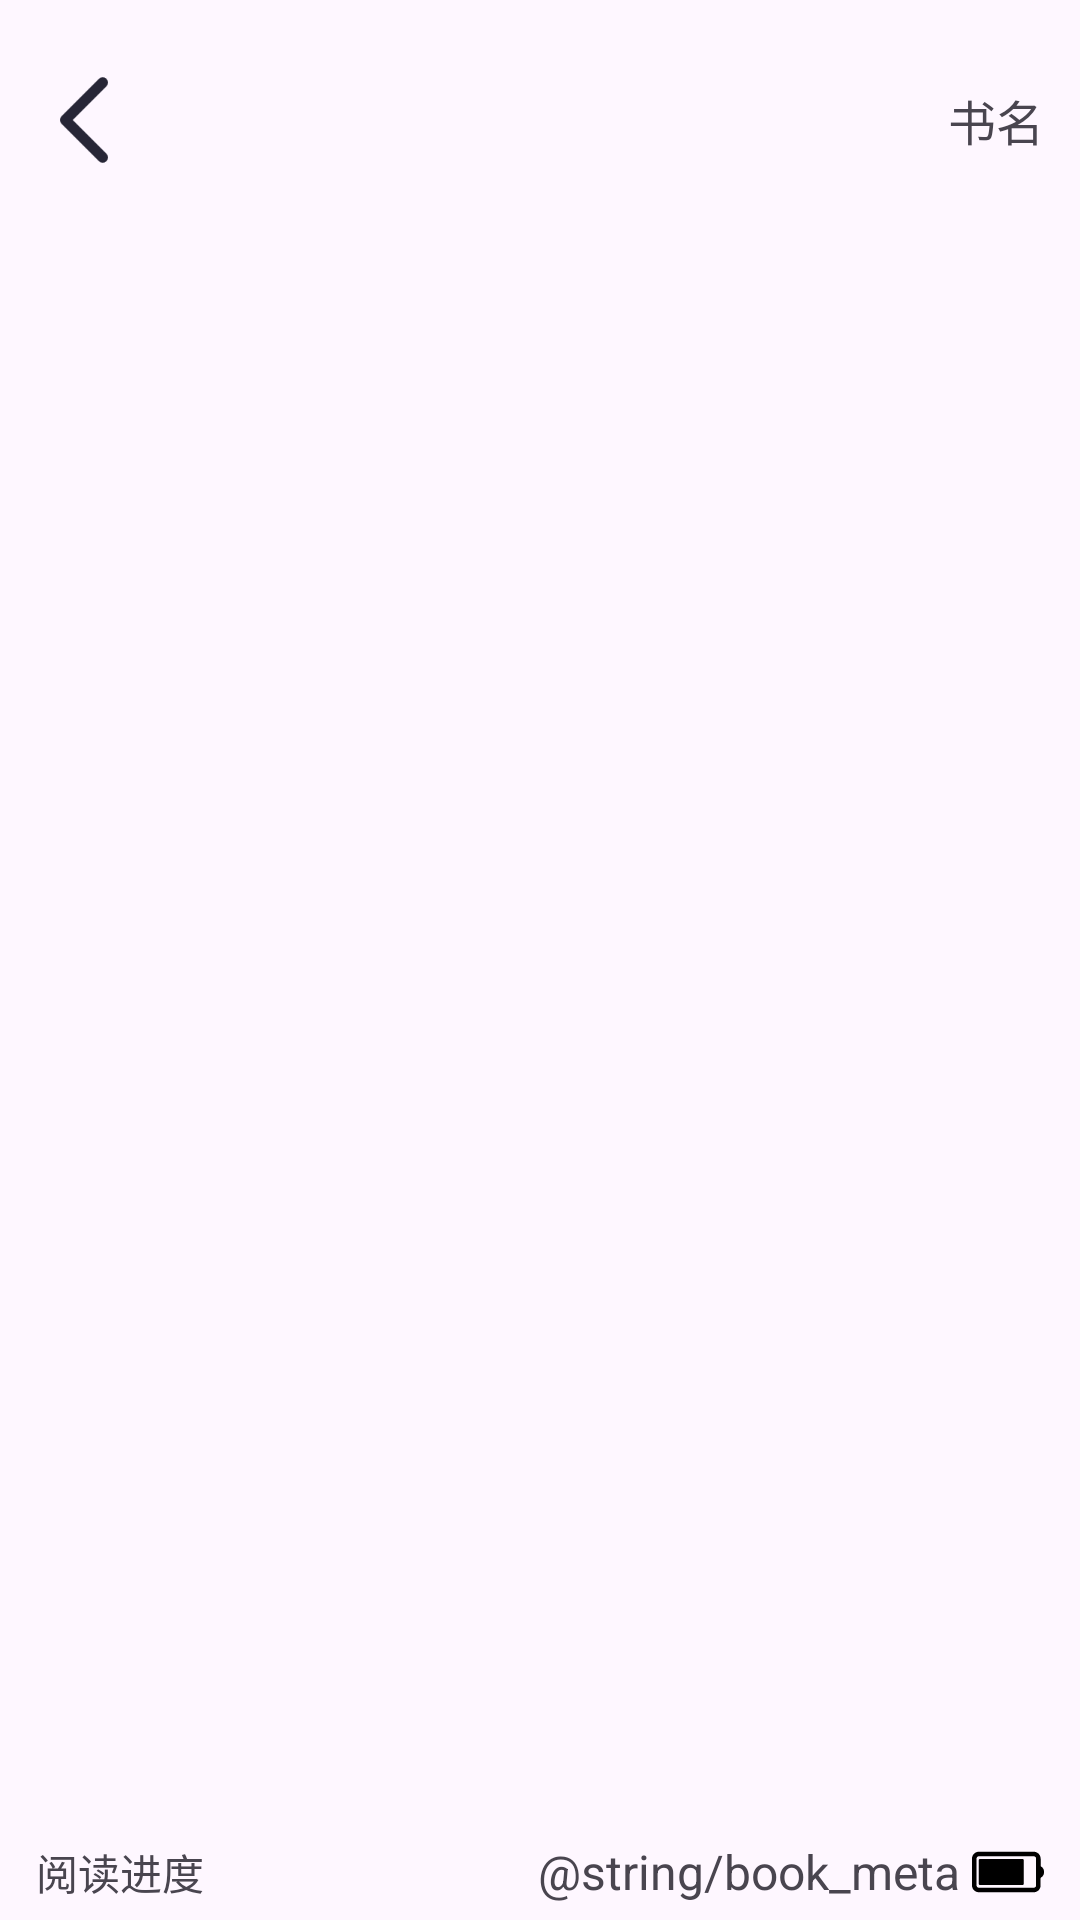

Point at icon controls on the screen. Image size 1080px×1920px, points as point (x, y).
arrow left: point (84, 120)
